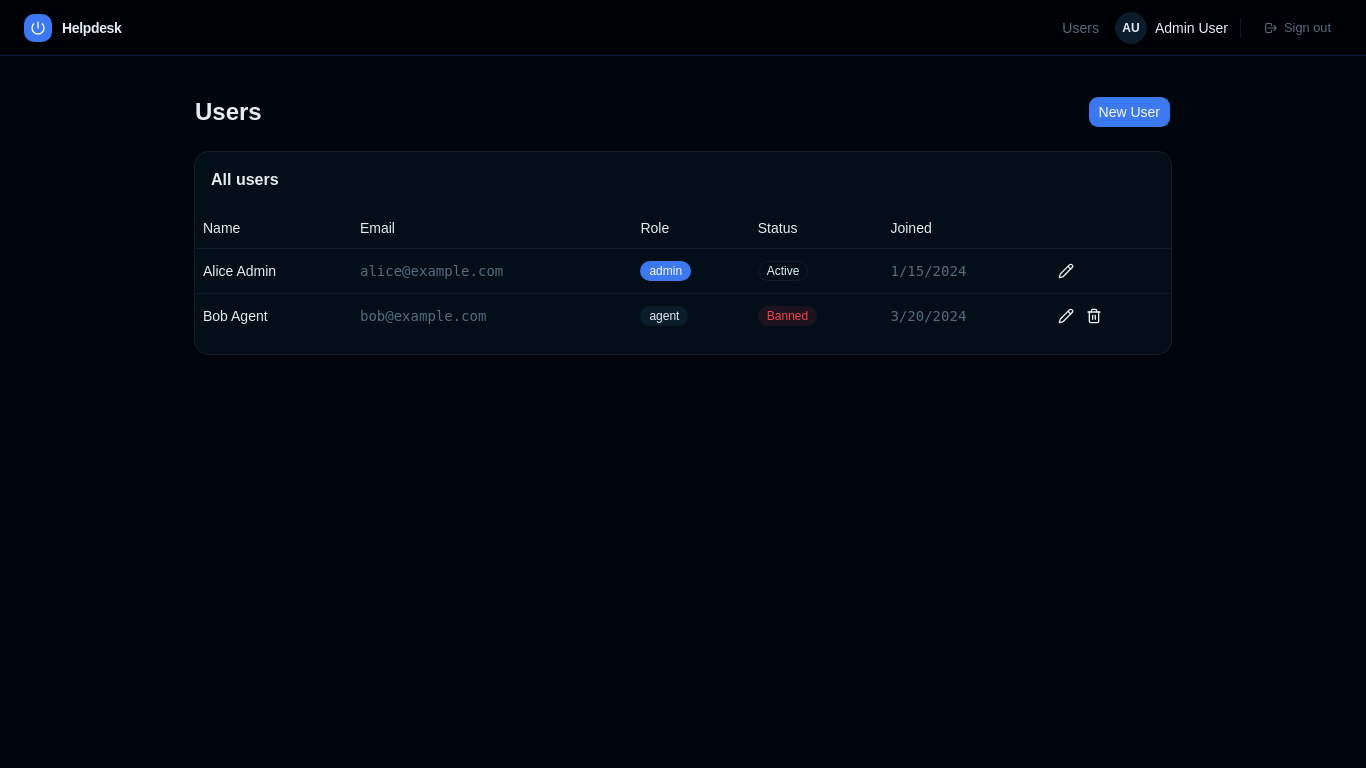
Test: UsersPage › opens the modal when "New User" is clicked
Click the button "New User" at (1129, 112), box [1088,96,1171,128]
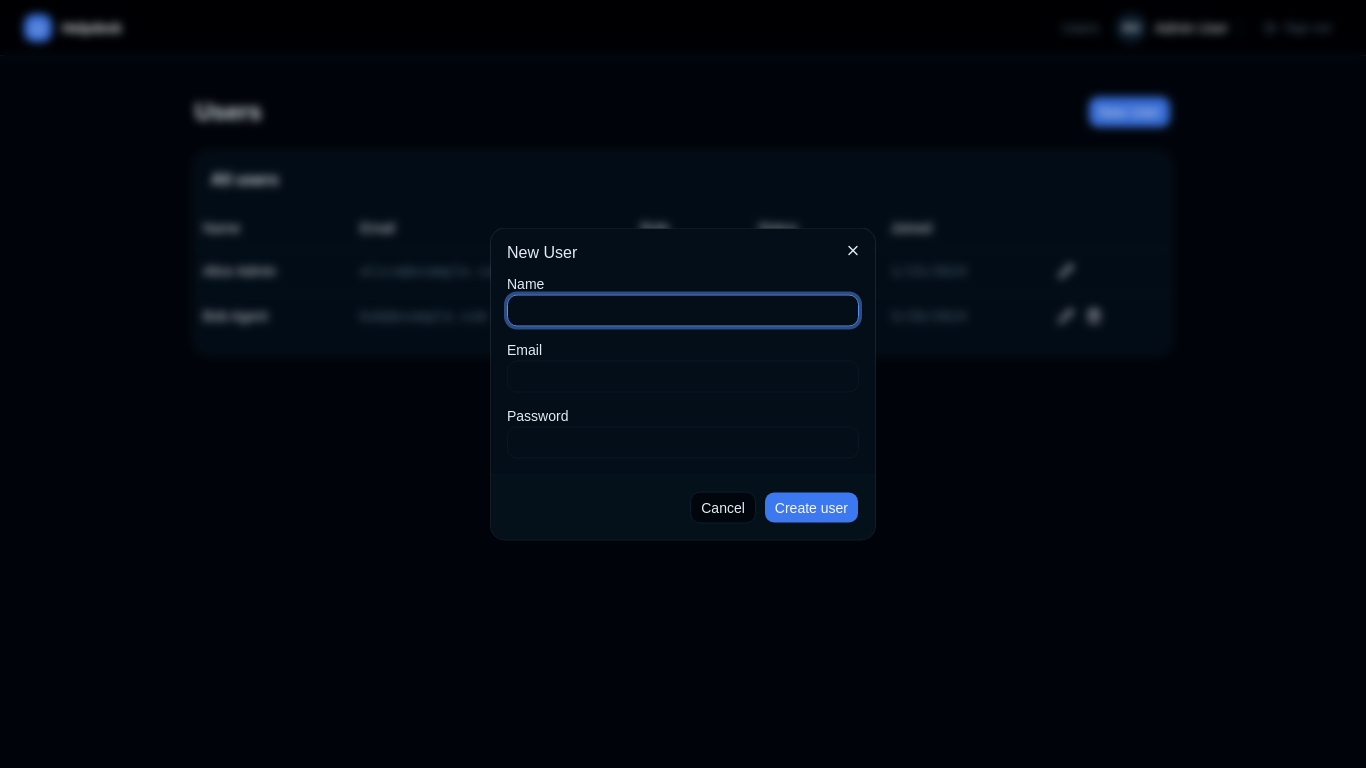
Expected: the dialog is shown, [491,228,875,540]
Expected: the field labelled "Name" is shown, [507,294,859,326]
